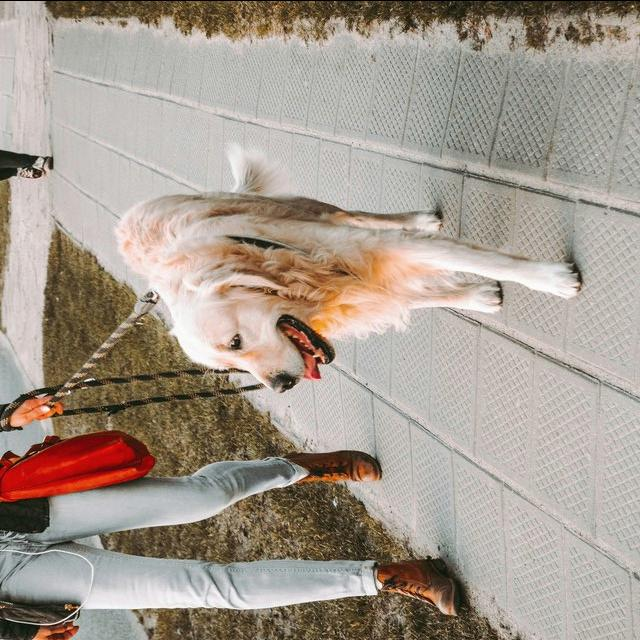retriever: (112, 142, 582, 393)
